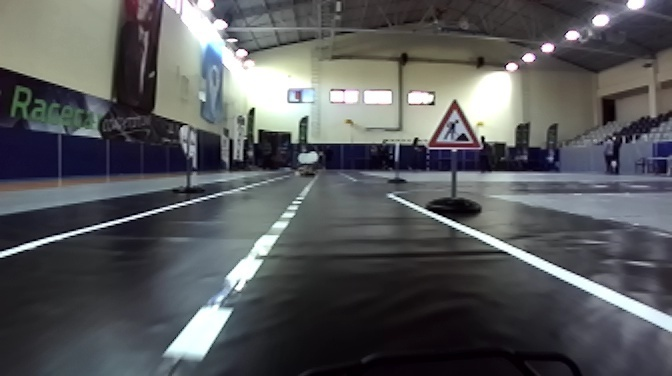yol_yapimi: (423, 96, 485, 152)
